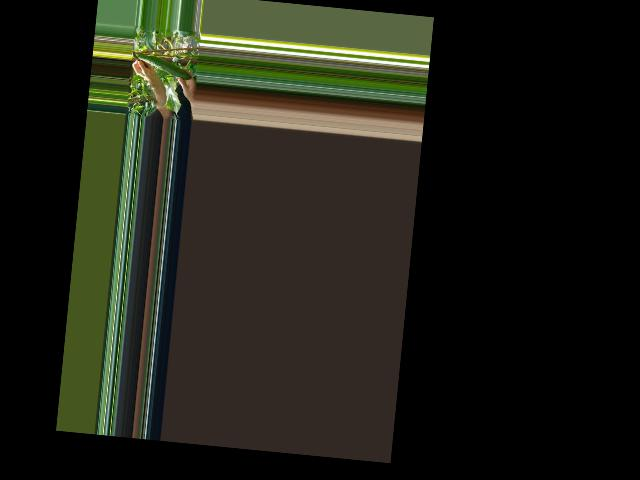cucumber: (136, 54, 193, 80)
